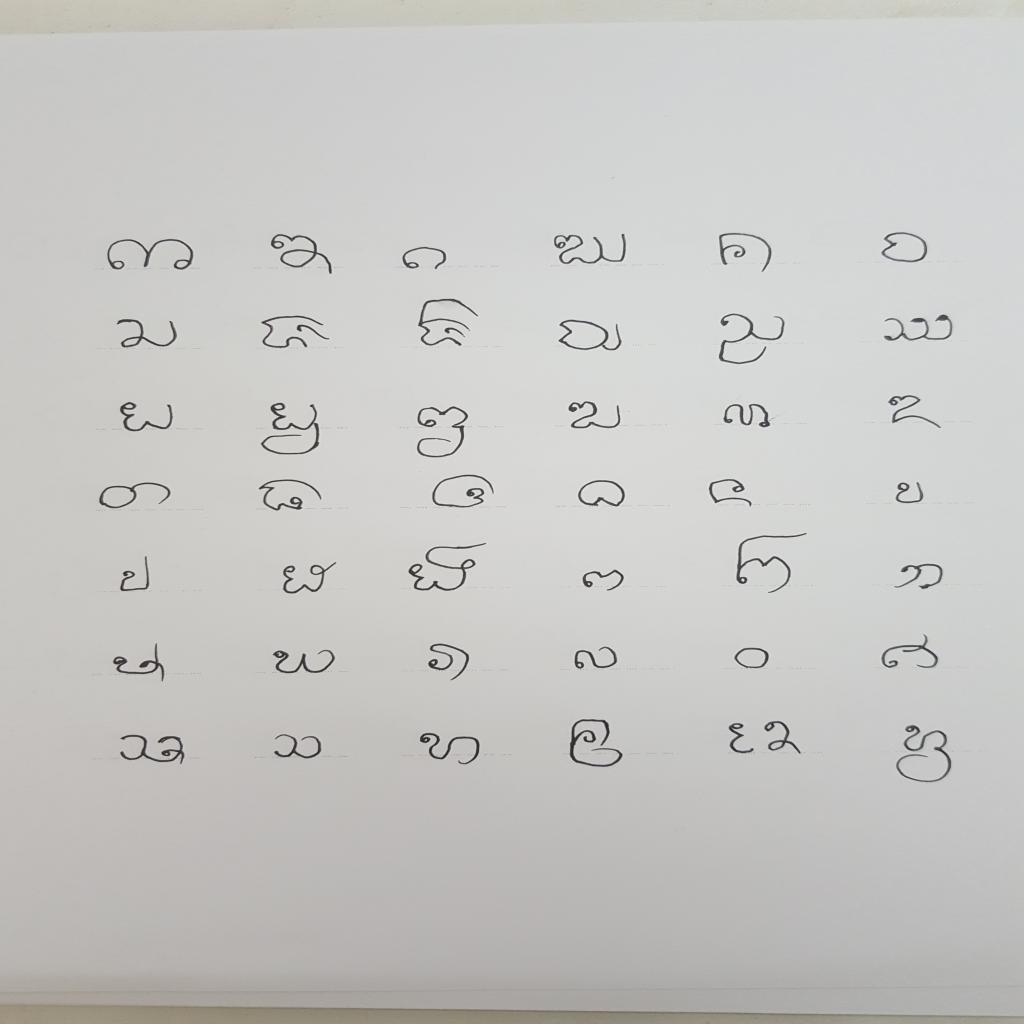LN001: (101, 236, 201, 275)
LN002: (264, 231, 342, 280)
LN003: (396, 244, 456, 274)
LN004: (548, 231, 634, 270)
LN005: (712, 230, 780, 278)
LN007: (108, 315, 185, 354)
LN008: (253, 313, 338, 354)
LN009: (411, 295, 487, 351)
LN010: (554, 316, 629, 356)
LN011: (713, 311, 793, 370)
LN012: (876, 312, 961, 347)
LN013: (115, 399, 183, 436)
LN014: (256, 400, 328, 460)
LN015: (410, 404, 475, 463)
LN016: (560, 399, 629, 433)
LN018: (881, 393, 948, 433)
LN019: (93, 479, 179, 514)
LN021: (427, 472, 501, 513)
LN022: (572, 477, 633, 511)
LN023: (703, 477, 759, 512)
LN026: (276, 560, 343, 598)
LN027: (402, 540, 494, 596)
LN029: (731, 531, 817, 600)
LN030: (888, 560, 951, 594)
LN032: (263, 647, 345, 679)
LN033: (421, 641, 478, 686)
LN034: (568, 643, 624, 674)
LN035: (728, 644, 776, 673)
LN036: (875, 632, 944, 672)
LN037: (111, 731, 193, 770)
LN038: (265, 731, 330, 764)
LN039: (414, 730, 489, 770)
LN040: (565, 716, 630, 772)
LN042: (890, 722, 959, 787)
